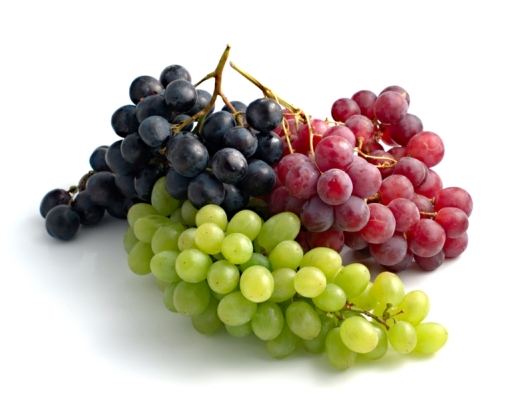Black grapes: (16, 73, 277, 214)
Green grapes: (143, 206, 446, 360)
Red Grapes: (294, 89, 483, 271)
